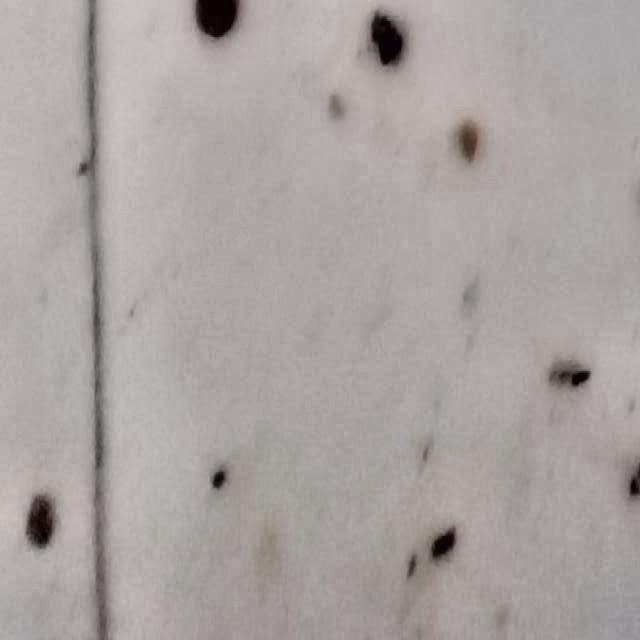varroa: (22, 489, 58, 553)
